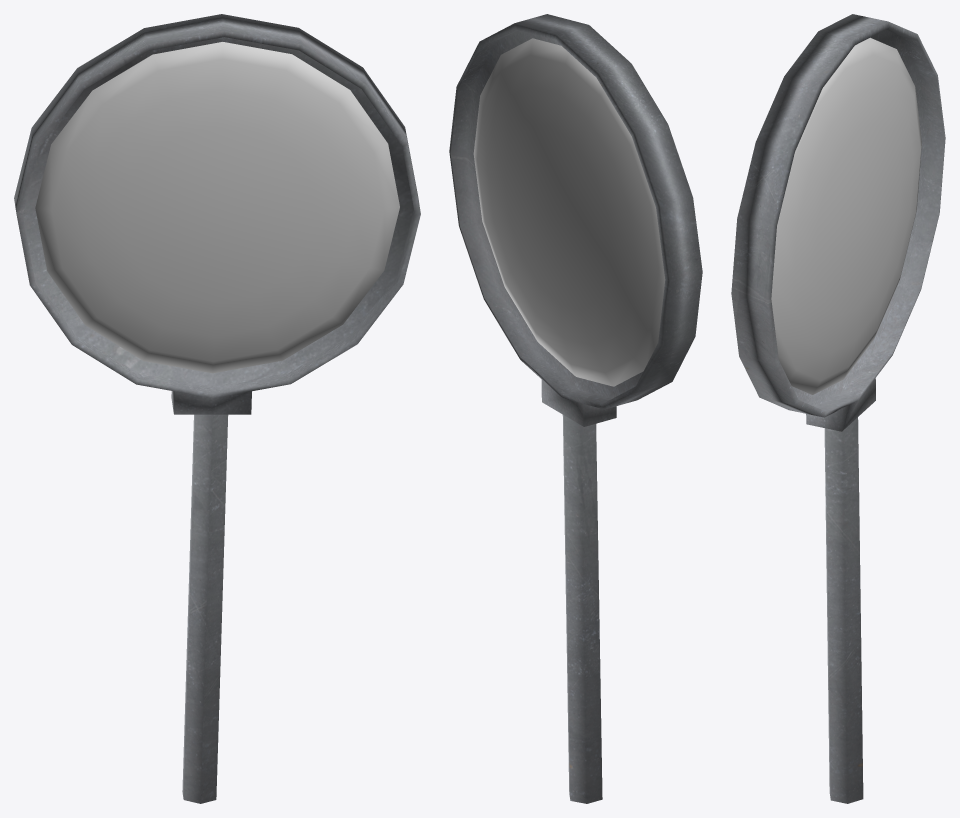
File: Mag_Glass2.fbx
The picture shows the model from 3 angles, left to right: view 1: azimuth 30°, elevation 25°; view 2: azimuth 150°, elevation 25°; view 3: azimuth 270°, elevation 25°; orthographic projection.
Visible parts, largest first — view 1: Mag_Glass.002; view 2: Mag_Glass.002; view 3: Mag_Glass.002.
Boxes of the visible parts, x1,y1,x2,y2 form: Mag_Glass.002: [14, 14, 420, 803]; Mag_Glass.002: [449, 14, 702, 803]; Mag_Glass.002: [731, 14, 945, 803].
Size of the model in its own units: 15.65 by 35.06 by 8.84.
